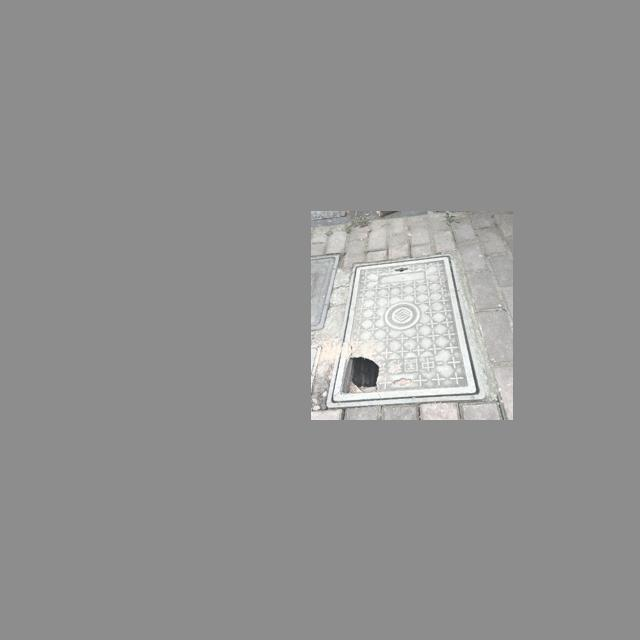broke: (326, 252, 486, 408)
